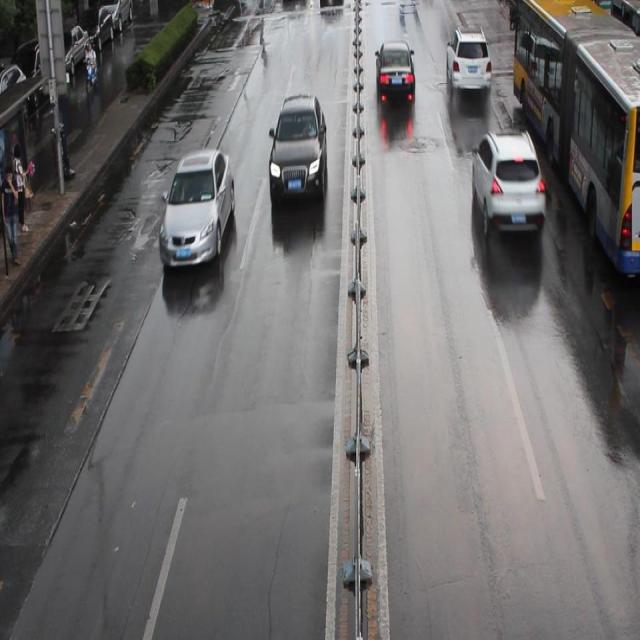car: (162, 152, 235, 272), (470, 129, 542, 240), (270, 99, 328, 200), (446, 29, 491, 99), (375, 40, 414, 101)
van: (514, 1, 640, 280)
